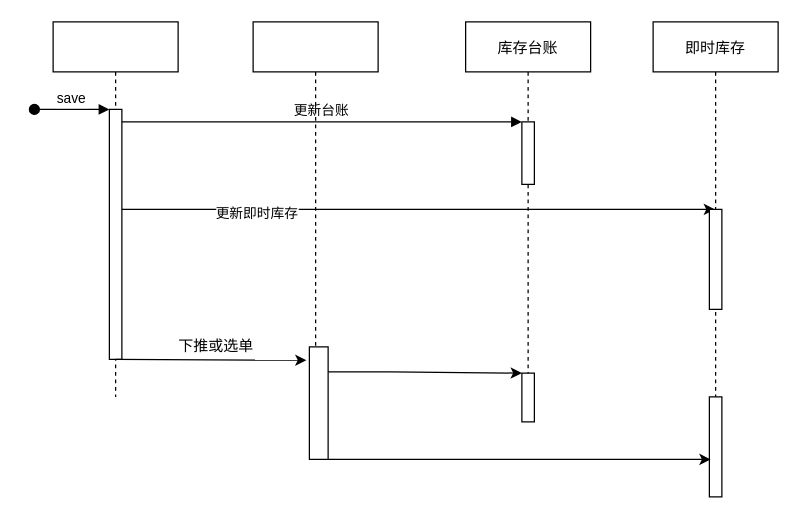
The diagram is 800 pixels wide and 519 high, and some of its shapes have lost their labels. Here are the shapes that lost their labels. From the top down, the box of each, then its label:
(52, 21, 178, 397): 分步式调出单
(252, 21, 378, 459): 分步式调入单
